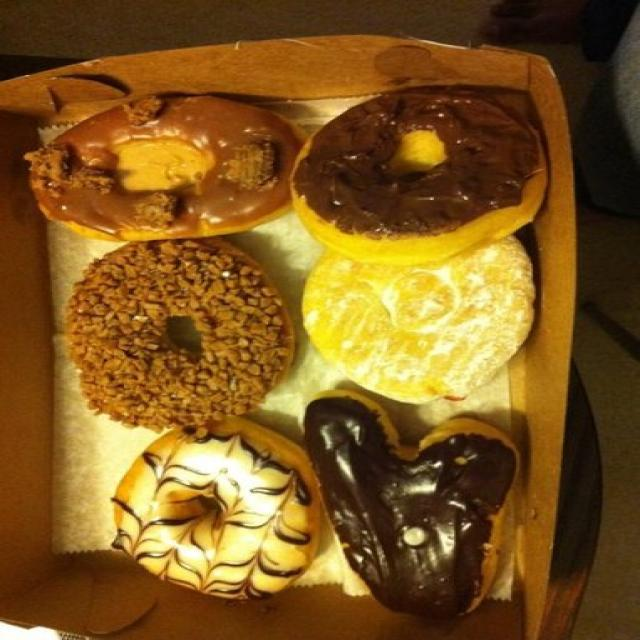Donuts: (22, 89, 513, 640)
